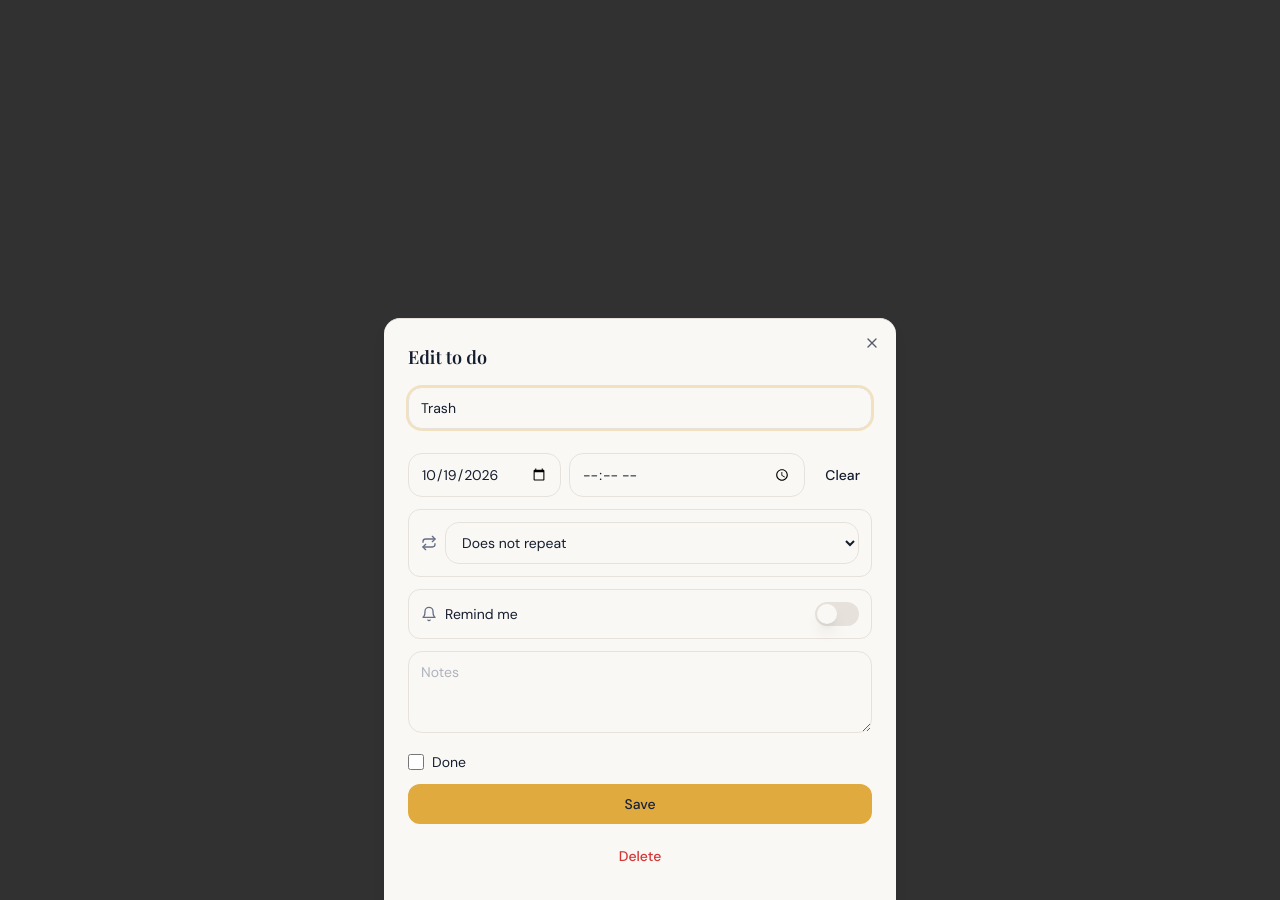
Test: personal due-time reminder › refuses to enable without a time and focuses time, then saves the at rule once a time is given
Later steps or results of the test are not shown.
Click the switch at (837, 614), box [815,602,859,626]
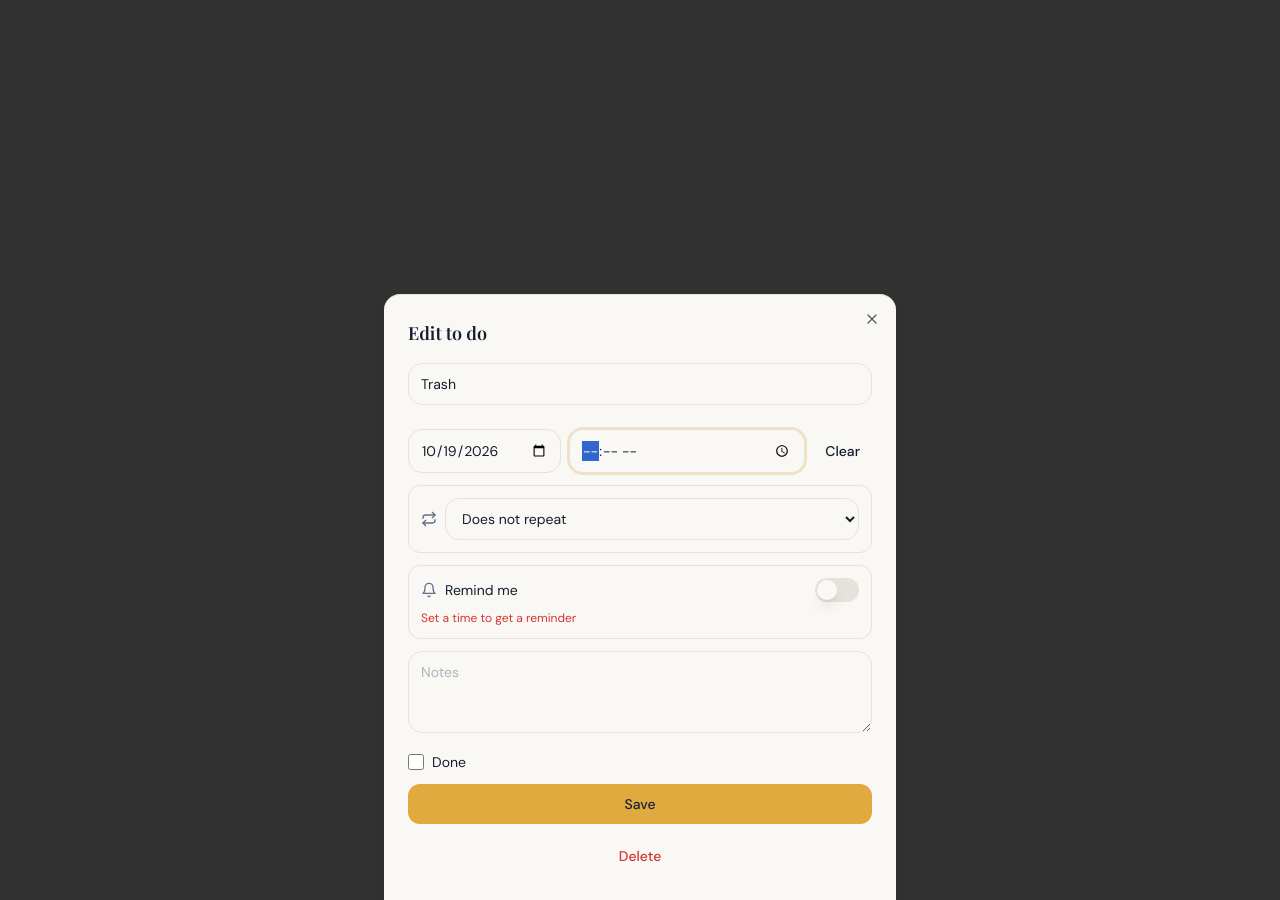
Type "18:00" into the time field named "Due time" at (687, 451), box [569,429,805,473]
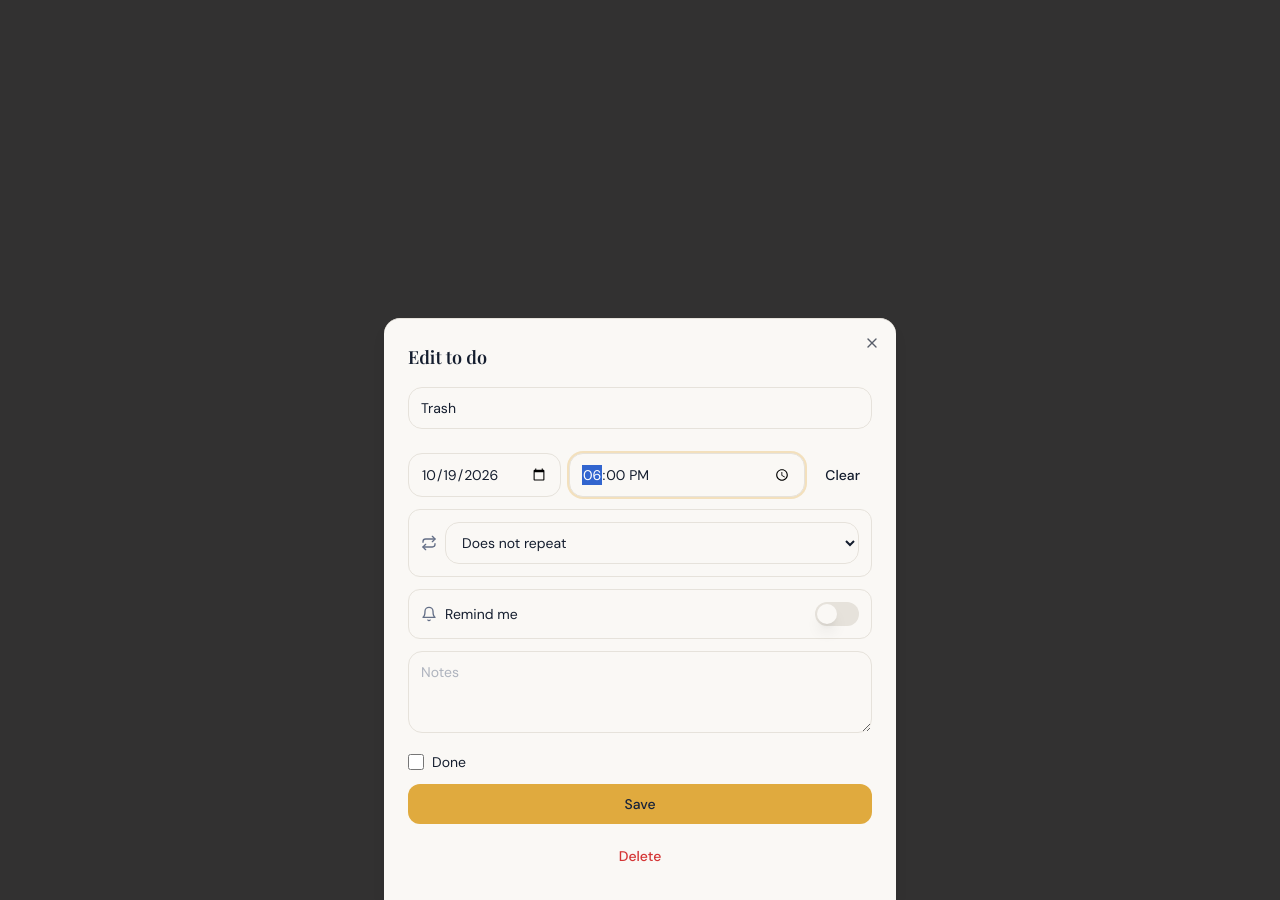
Click the switch at (837, 614), box [815,602,859,626]
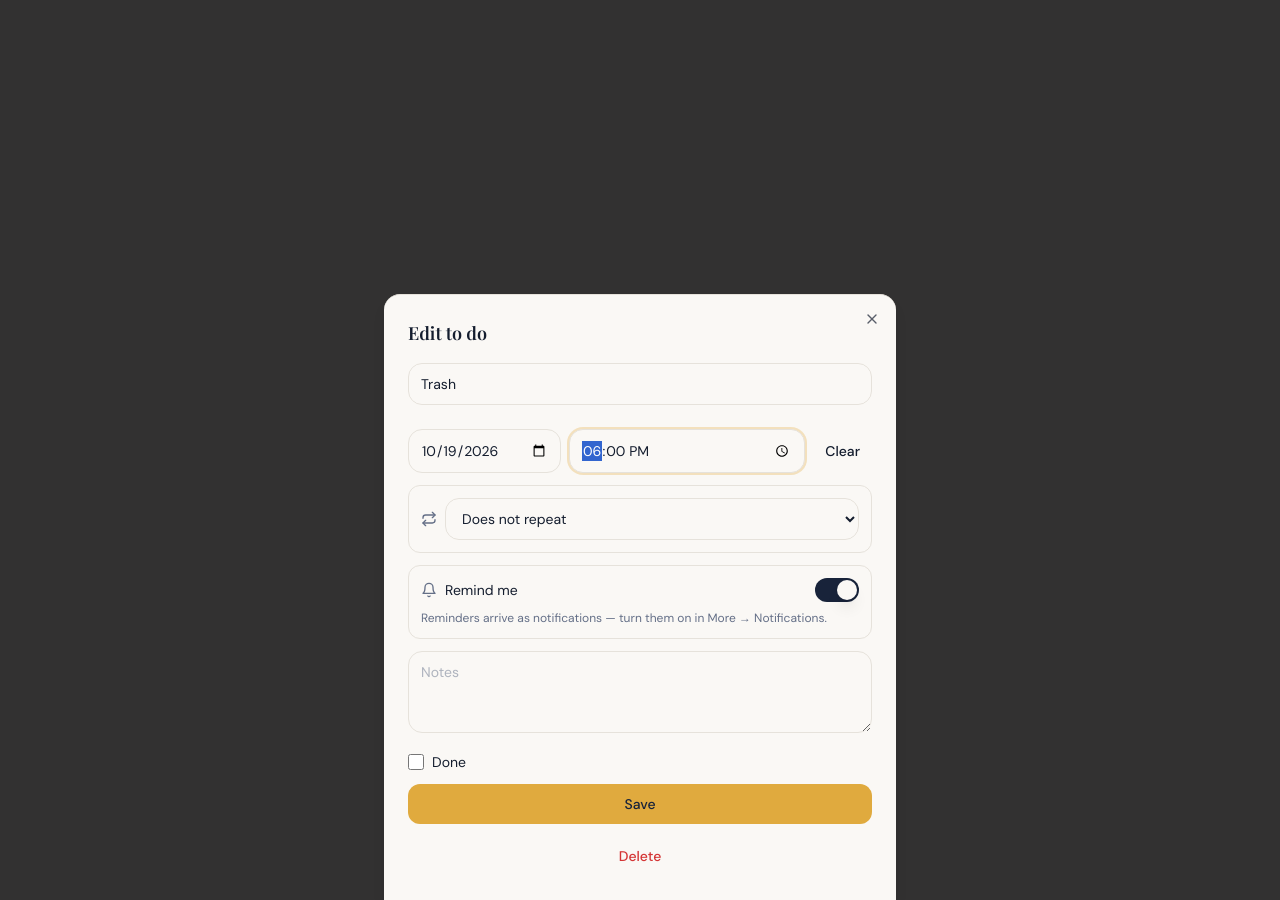
Expected: the switch is checked, [815,578,859,602]
